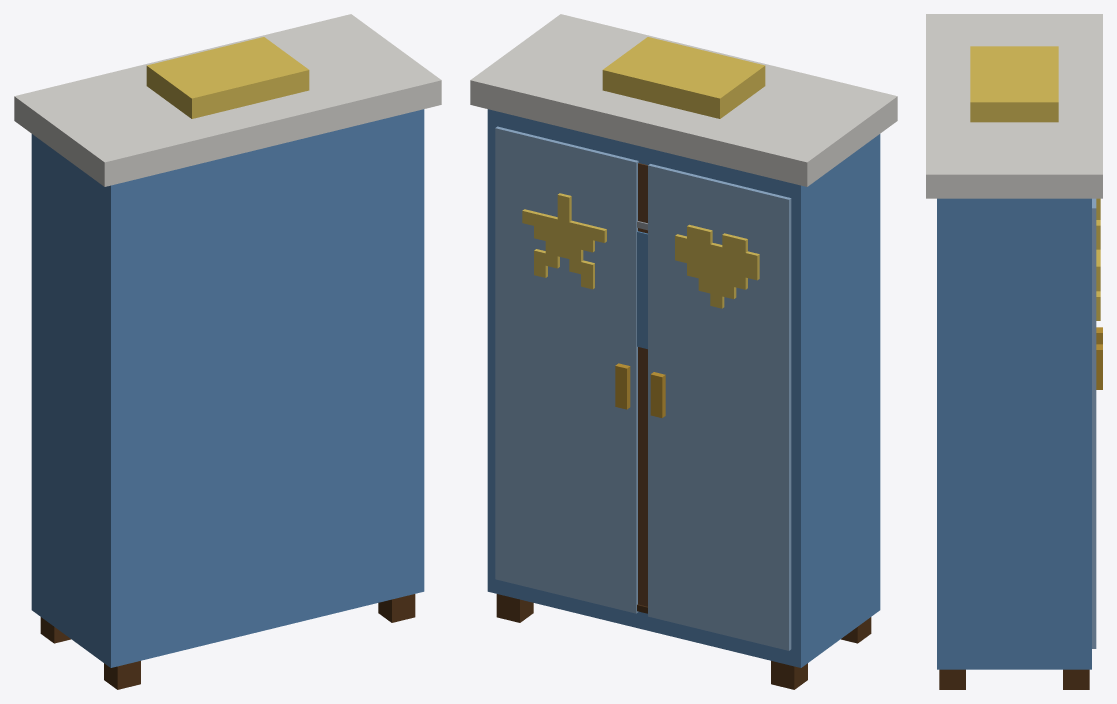
The model's file is ncb-wardrobe-blue.glb.
The picture shows the model from 3 angles, left to right: view 1: azimuth 30°, elevation 25°; view 2: azimuth 150°, elevation 25°; view 3: azimuth 270°, elevation 25°; orthographic projection. The views are drawn at different scales.
Parts seen in each view (by area): view 1: box-prop; view 2: box-prop, part-door-left, part-door-right; view 3: box-prop, part-door-right.
Part boxes in pixels (x1=…): box-prop: x1=14, y1=14, x2=441, y2=689; box-prop: x1=470, y1=14, x2=897, y2=689; part-door-left: x1=648, y1=164, x2=791, y2=650; part-door-right: x1=495, y1=126, x2=638, y2=613; box-prop: x1=926, y1=14, x2=1102, y2=689; part-door-right: x1=1092, y1=198, x2=1102, y2=648.
Size of the model in its own units: 1.72 by 2.72 by 0.8.
